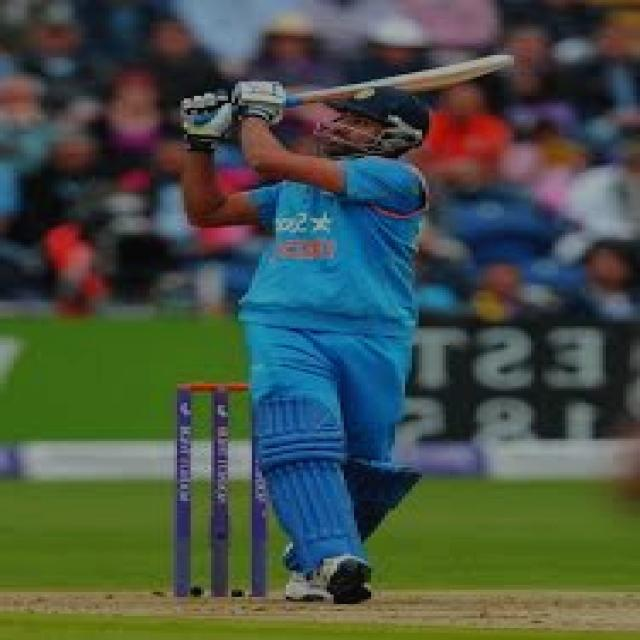toe: (486, 50, 518, 74)
